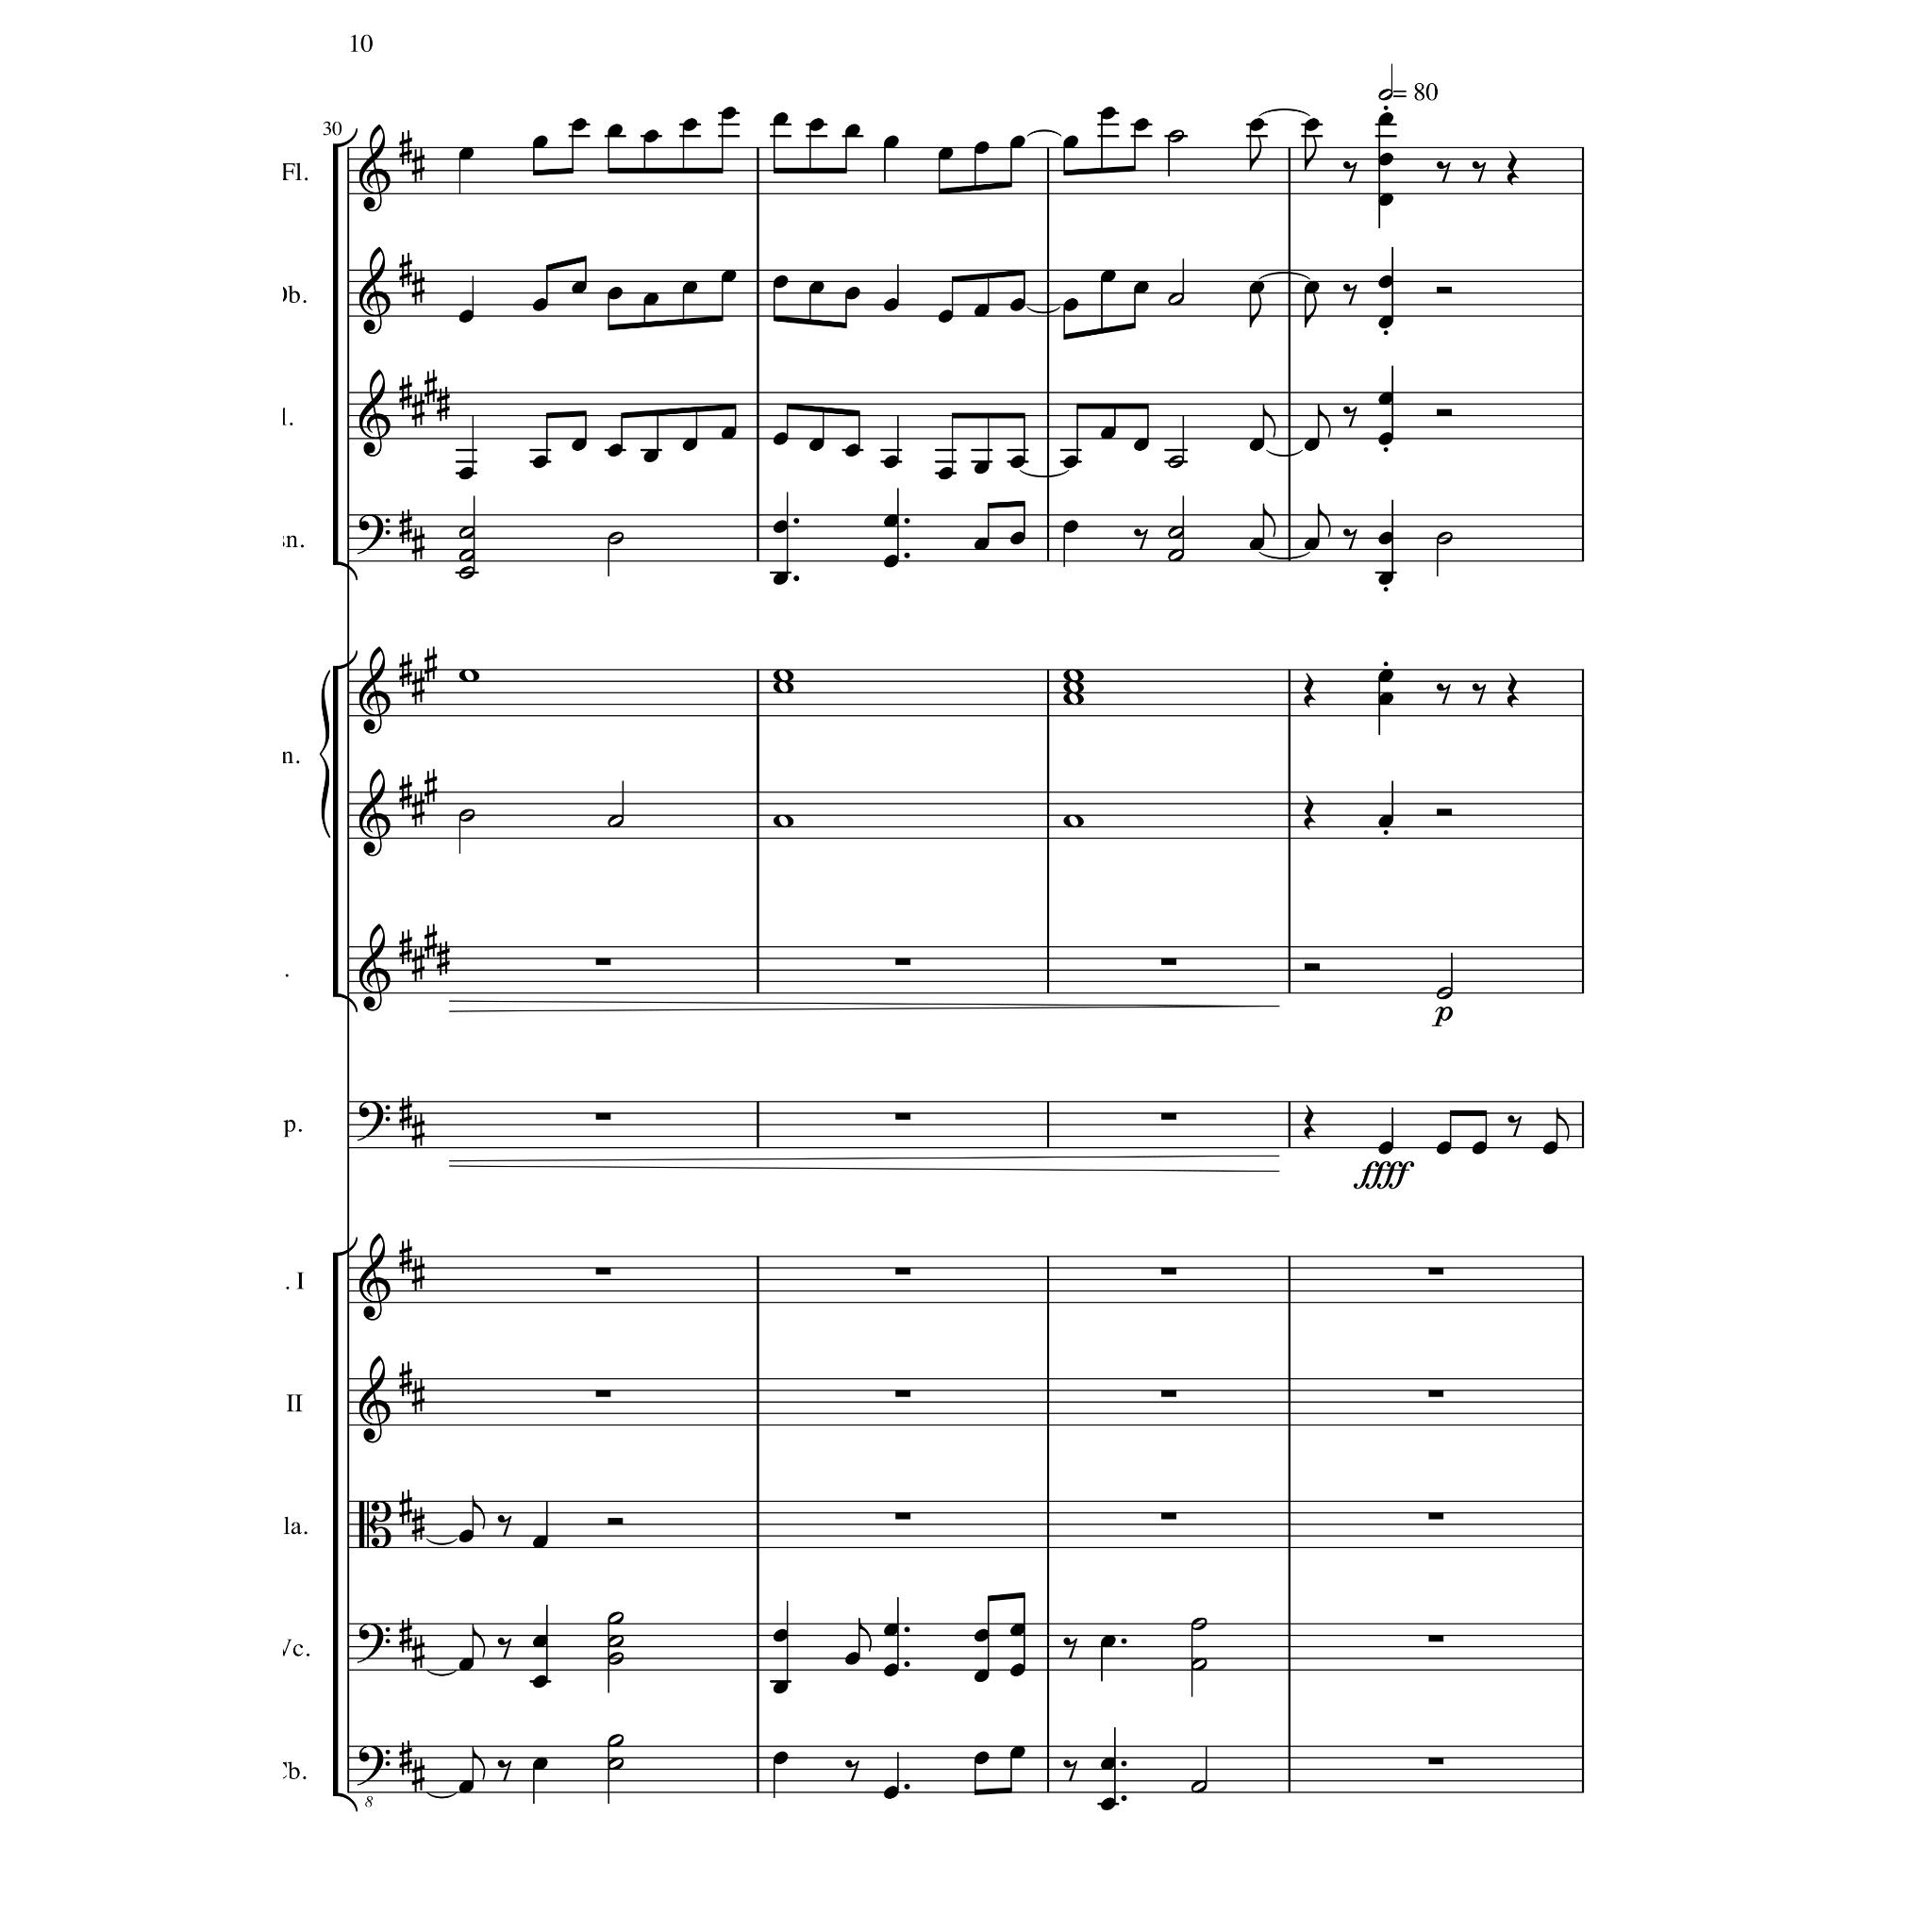brace: (318, 671, 331, 839)
fClef: (357, 515, 391, 556), (357, 1746, 391, 1787), (357, 1622, 391, 1663), (357, 1102, 391, 1141)
flag8thDown: (1306, 136, 1318, 172), (1306, 294, 1318, 329), (1249, 136, 1261, 172), (1249, 294, 1261, 329)
flag8thUp: (858, 1617, 872, 1652), (1263, 504, 1276, 538), (1263, 405, 1276, 439), (1318, 504, 1330, 538), (1318, 405, 1330, 439), (1557, 1108, 1569, 1141), (472, 1746, 485, 1780), (472, 1624, 485, 1658), (472, 1497, 485, 1530)
gClef: (359, 368, 391, 458), (359, 124, 391, 214), (359, 246, 391, 334), (359, 924, 391, 1012), (359, 770, 391, 858), (359, 646, 391, 734), (359, 1355, 391, 1444), (359, 1233, 391, 1322)
noteheadBlack: (1099, 1757, 1116, 1771), (1099, 1796, 1116, 1810), (1099, 1635, 1116, 1649), (1099, 426, 1116, 441), (1099, 269, 1116, 283), (1099, 106, 1116, 120), (531, 1757, 548, 1771), (531, 1635, 548, 1649), (531, 455, 548, 469), (531, 297, 548, 311), (844, 444, 862, 458), (844, 287, 862, 301), (844, 124, 862, 138), (1304, 119, 1320, 133), (1304, 437, 1320, 451), (1249, 119, 1265, 133), (1249, 437, 1265, 451), (1063, 297, 1079, 311), (1063, 520, 1079, 534), (1063, 455, 1079, 469), (1134, 437, 1150, 451), (1134, 119, 1150, 133), (1543, 1141, 1559, 1155), (1472, 1141, 1488, 1155), (1378, 111, 1394, 126), (1378, 152, 1394, 166), (1378, 193, 1394, 207), (1437, 1141, 1453, 1155), (1378, 692, 1394, 706), (1378, 1141, 1394, 1155), (1378, 814, 1394, 828), (1378, 669, 1394, 683), (1378, 432, 1394, 446), (571, 437, 587, 451), (571, 119, 587, 133), (642, 449, 658, 464), (642, 292, 658, 306), (642, 129, 658, 143), (681, 437, 697, 451), (681, 119, 697, 133), (607, 124, 623, 138), (607, 444, 623, 458), (607, 287, 623, 301), (458, 1780, 474, 1794), (458, 147, 474, 161), (883, 1785, 899, 1799), (883, 1663, 899, 1677), (883, 513, 899, 527), (883, 554, 899, 568), (883, 455, 899, 469), (883, 297, 899, 311), (1010, 1663, 1026, 1677), (1010, 455, 1026, 469), (1010, 297, 1026, 311), (938, 147, 954, 161), (975, 1670, 991, 1684), (975, 304, 991, 318), (771, 1681, 787, 1695), (722, 426, 738, 441), (722, 269, 738, 283), (722, 106, 738, 120), (771, 520, 787, 534), (771, 432, 787, 446), (771, 111, 787, 126), (809, 437, 824, 451), (809, 119, 824, 133), (531, 1675, 548, 1688), (531, 1536, 548, 1548), (531, 136, 548, 149), (844, 1652, 862, 1665), (1249, 538, 1265, 550), (1304, 281, 1320, 294), (1304, 538, 1320, 550), (1249, 281, 1265, 294), (1063, 136, 1079, 149), (1134, 281, 1150, 294), (1378, 317, 1394, 329), (1378, 533, 1394, 545), (1378, 573, 1394, 586), (1378, 393, 1394, 405), (1378, 276, 1394, 288), (571, 281, 587, 294), (681, 281, 697, 294), (458, 467, 474, 479), (458, 1658, 474, 1670), (458, 1530, 474, 1543), (458, 310, 474, 322), (883, 1624, 899, 1637), (883, 136, 899, 149), (1010, 136, 1026, 149), (1010, 1746, 1026, 1759), (1010, 1624, 1026, 1637), (1010, 533, 1026, 545), (938, 467, 954, 479), (938, 310, 954, 322), (975, 1752, 991, 1764), (975, 1629, 991, 1642), (975, 538, 991, 550), (975, 462, 991, 474), (975, 142, 991, 154), (771, 1752, 787, 1764), (771, 1629, 787, 1642), (771, 573, 787, 586), (771, 276, 787, 288), (809, 281, 824, 294)
noteheadHalf: (1168, 548, 1185, 563), (1168, 292, 1185, 306), (1168, 129, 1185, 143), (458, 809, 476, 823), (458, 548, 476, 563), (1191, 1780, 1207, 1794), (1191, 1617, 1207, 1631), (607, 1757, 623, 1771), (607, 1635, 623, 1649), (607, 814, 623, 828), (1168, 525, 1185, 538), (1168, 456, 1185, 469), (458, 525, 476, 538), (458, 566, 476, 579), (1191, 1658, 1207, 1670), (1437, 987, 1453, 1000), (1437, 533, 1453, 545), (607, 1612, 623, 1624), (607, 1652, 623, 1665), (607, 533, 623, 545), (607, 1734, 623, 1746)
noteheadWhole: (771, 814, 794, 828), (771, 669, 794, 683), (1063, 814, 1085, 828), (1063, 669, 1085, 683), (1063, 692, 1085, 706), (458, 669, 479, 683), (771, 681, 794, 694), (1063, 681, 1085, 694)
rest8th: (1062, 1759, 1077, 1782), (1062, 1637, 1077, 1660), (1507, 1115, 1523, 1138), (497, 1514, 513, 1537), (497, 1759, 513, 1782), (497, 1637, 513, 1660), (844, 1759, 860, 1782), (1132, 529, 1148, 550), (1472, 683, 1486, 706), (1472, 161, 1486, 184), (1343, 405, 1357, 428), (1343, 283, 1357, 306), (1343, 161, 1357, 184), (1437, 683, 1451, 706), (1437, 161, 1451, 184), (1343, 529, 1357, 550)
restHalf: (1304, 962, 1320, 971), (1437, 409, 1453, 418), (1437, 287, 1453, 294), (1437, 809, 1453, 816), (607, 1518, 623, 1525)
restQuarter: (1304, 1104, 1316, 1141), (1304, 672, 1316, 708), (1507, 150, 1520, 186), (1507, 672, 1520, 708), (1304, 796, 1316, 830)
restWhole: (1428, 1757, 1444, 1766), (1161, 959, 1177, 966), (1161, 1113, 1177, 1120), (1161, 1269, 1177, 1276), (1161, 1391, 1177, 1398), (895, 959, 911, 966), (895, 1113, 911, 1120), (895, 1269, 911, 1276), (895, 1391, 911, 1398), (895, 1513, 911, 1520), (1161, 1513, 1177, 1520), (594, 1113, 610, 1120), (1428, 1635, 1444, 1642), (1428, 1513, 1444, 1520), (1428, 1391, 1444, 1398), (1428, 1269, 1444, 1276), (594, 1391, 610, 1398), (594, 1269, 610, 1276), (594, 959, 610, 966)
